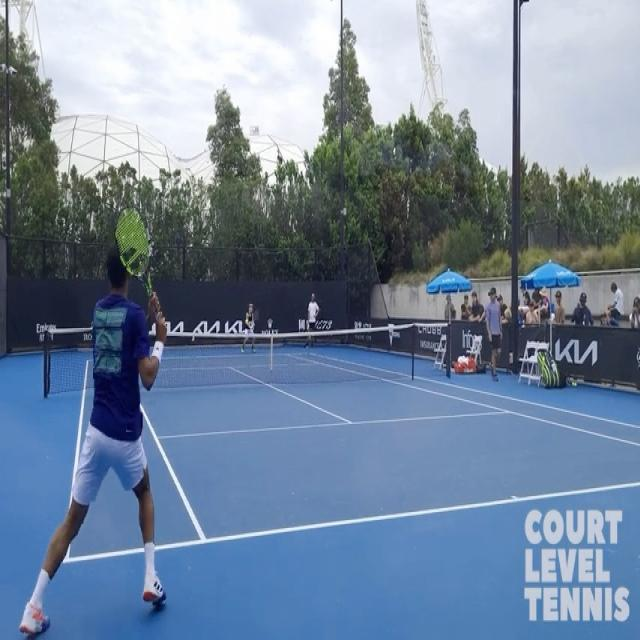backhand-finish: (19, 200, 170, 635)
